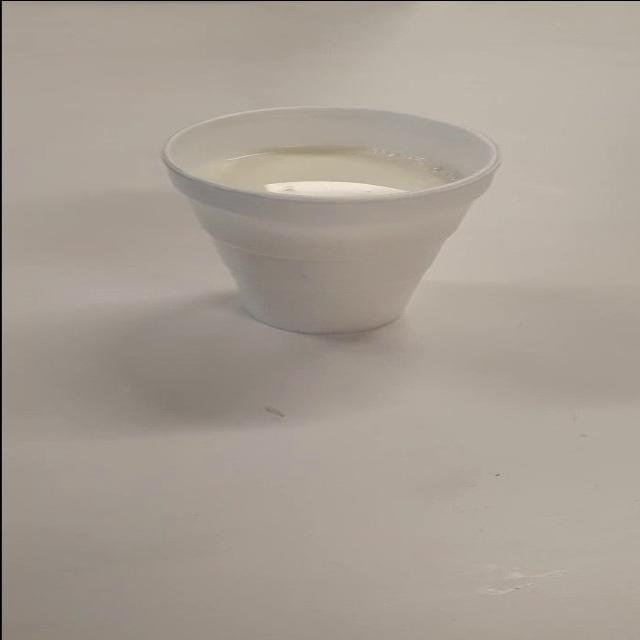Milk: (133, 86, 523, 360)
